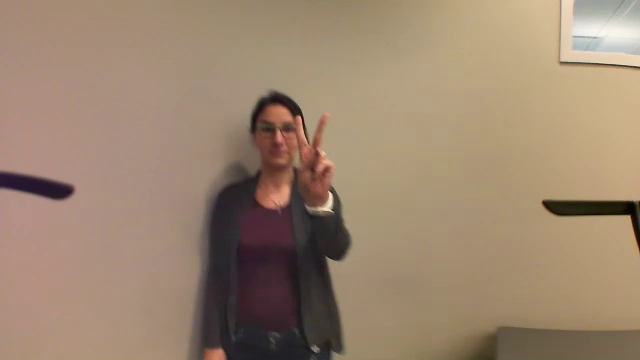peace: (287, 103, 340, 210)
